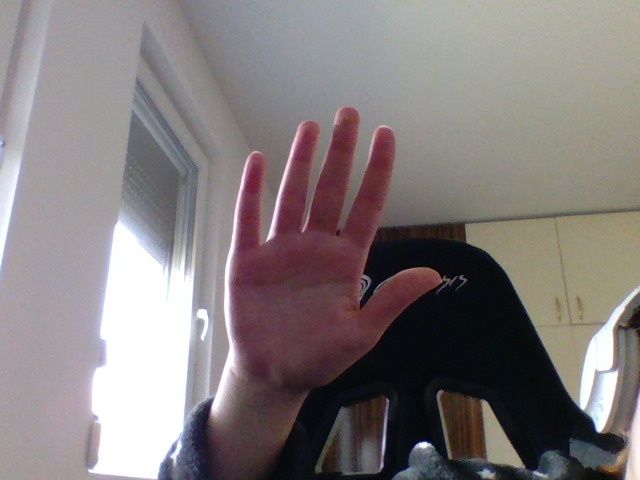HighFive: (223, 104, 440, 385)
